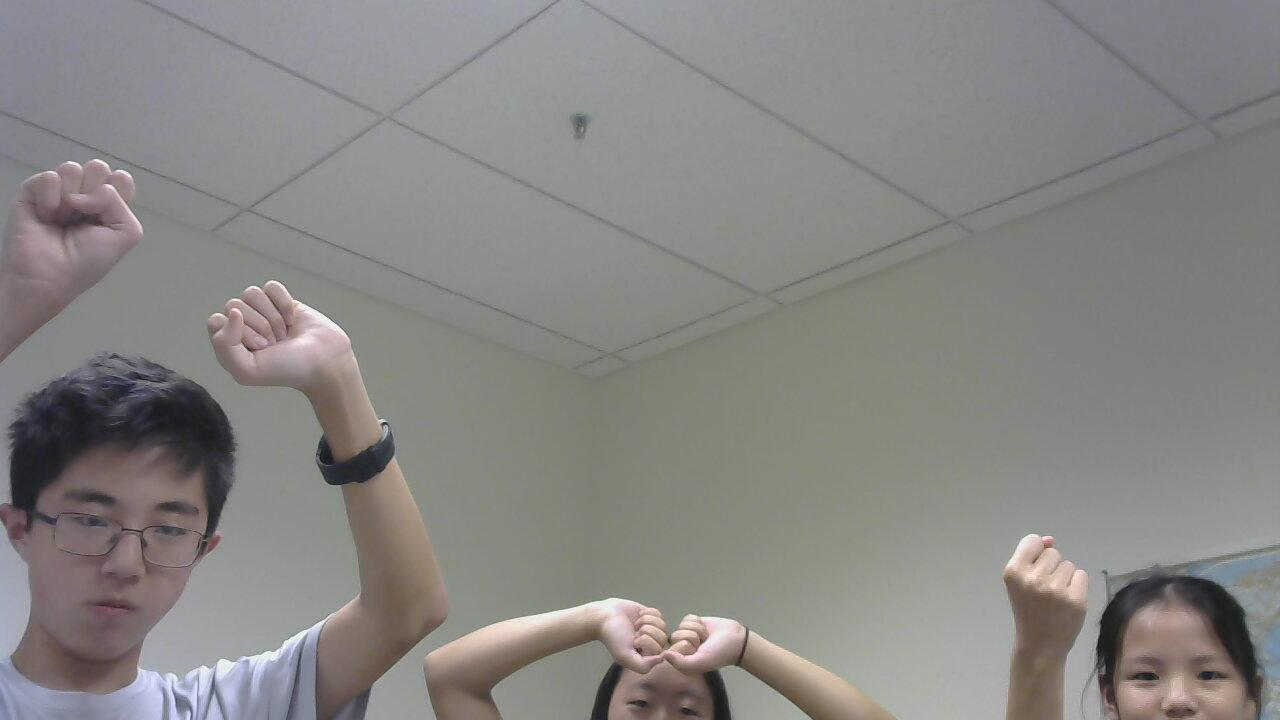fist: (11, 157, 161, 306), (196, 277, 361, 396), (981, 527, 1097, 656), (581, 577, 674, 678), (640, 614, 773, 673)
